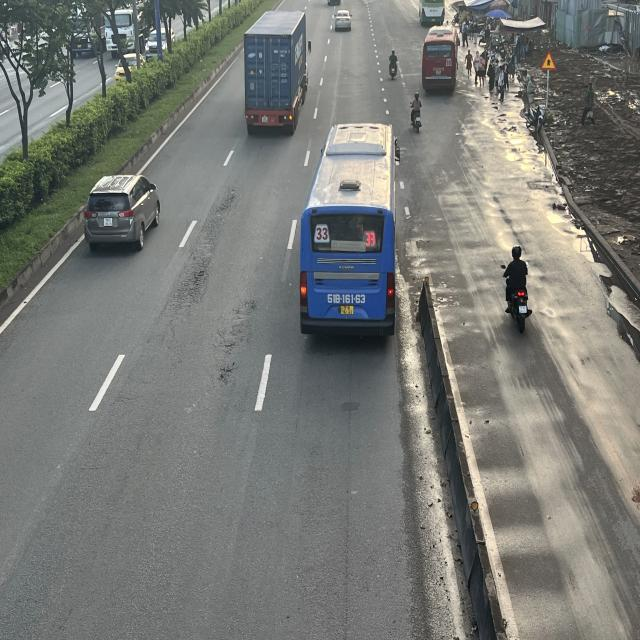car: (86, 173, 164, 251), (334, 8, 354, 30)
coach: (297, 118, 401, 338), (424, 28, 460, 92), (418, 0, 444, 25)
container: (245, 10, 312, 134)
